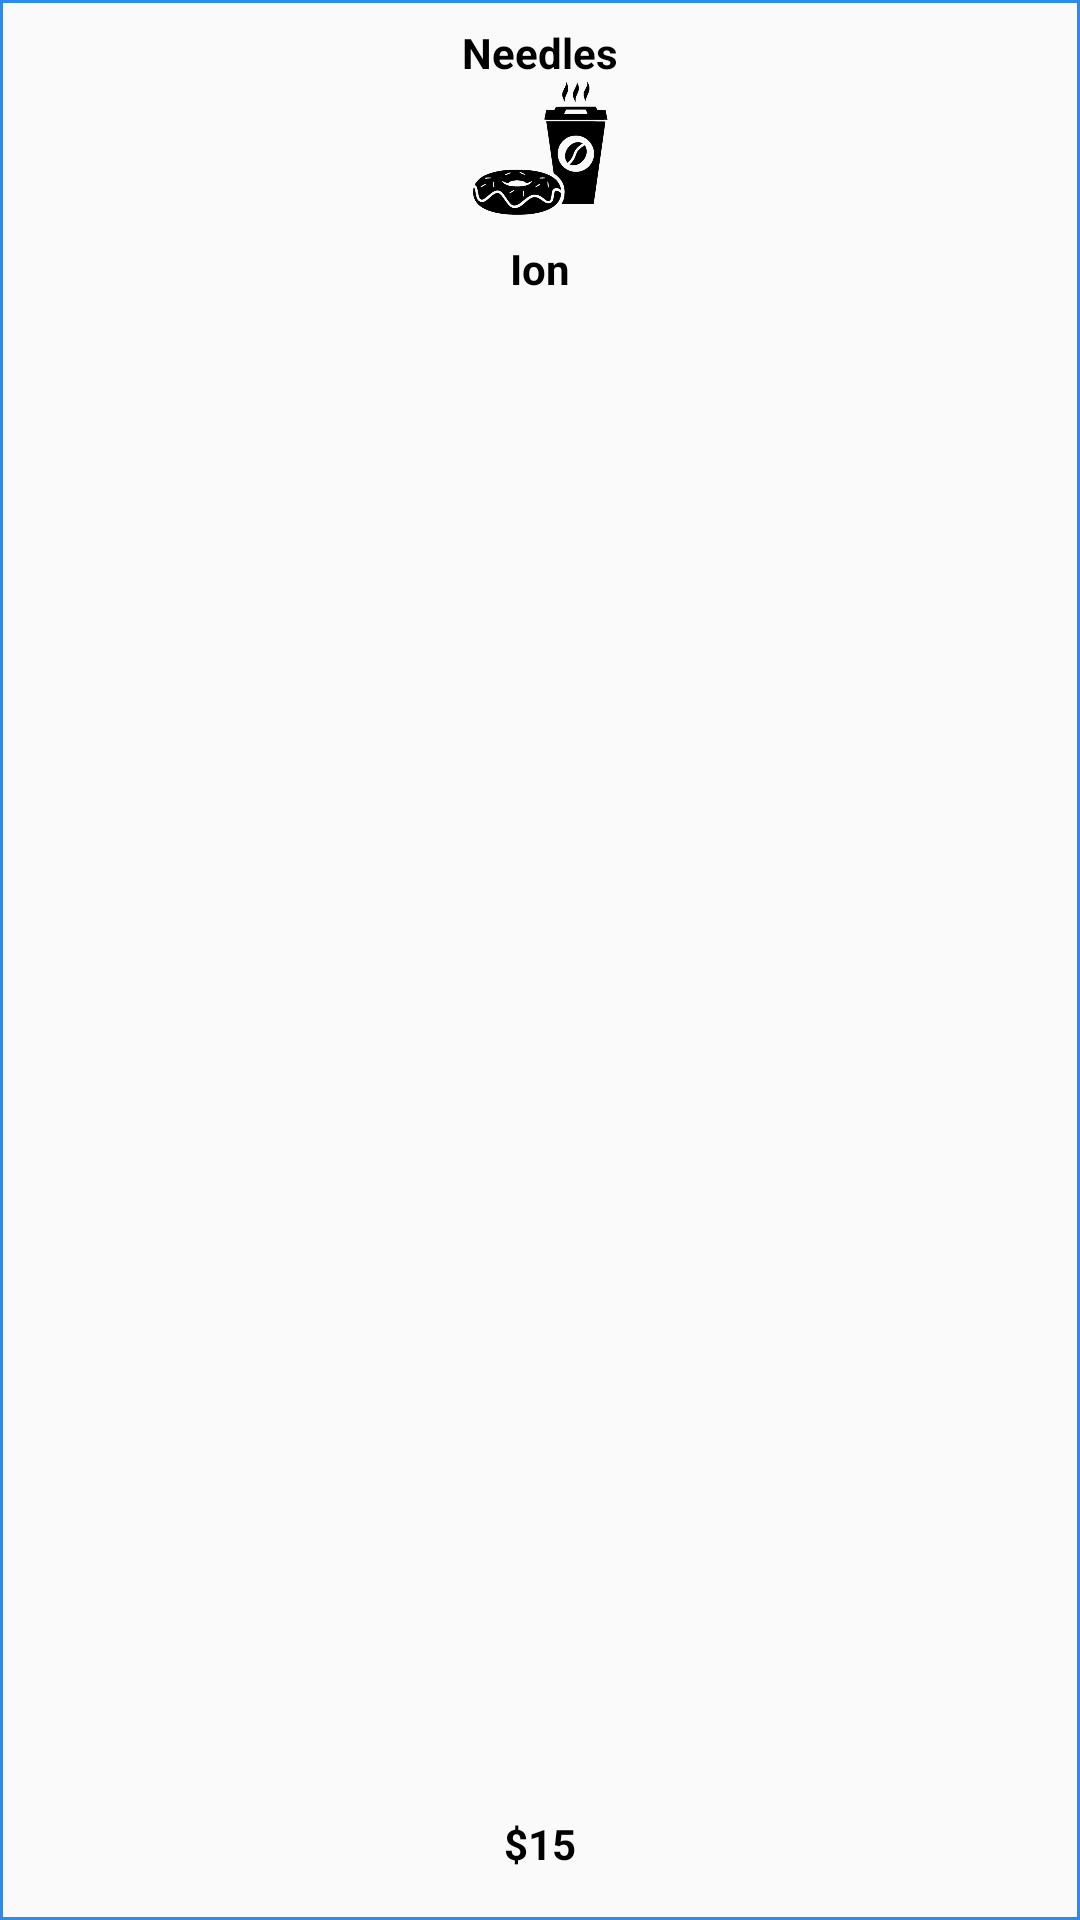

Icon bounding boxes for this 1080x1920 phone screenshot, format {"left": x1, "top": y1, "right": x2, "bottom": y2}:
coffee and donut: {"left": 473, "top": 82, "right": 608, "bottom": 215}
